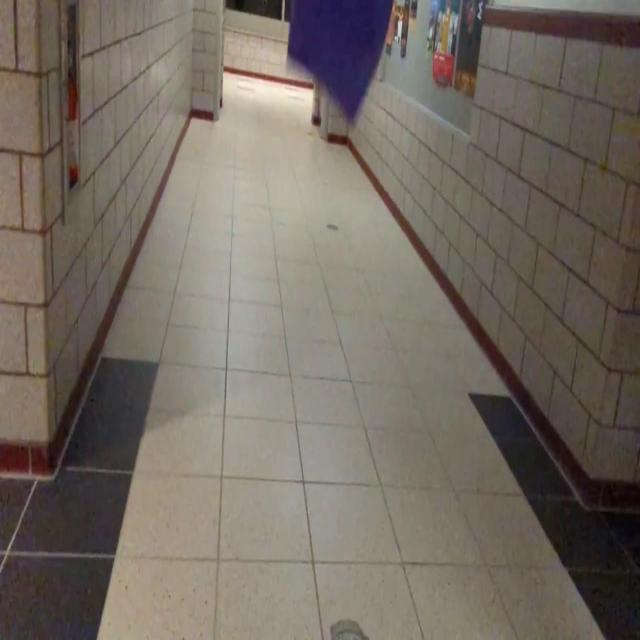frc_cube: (286, 0, 394, 124)
